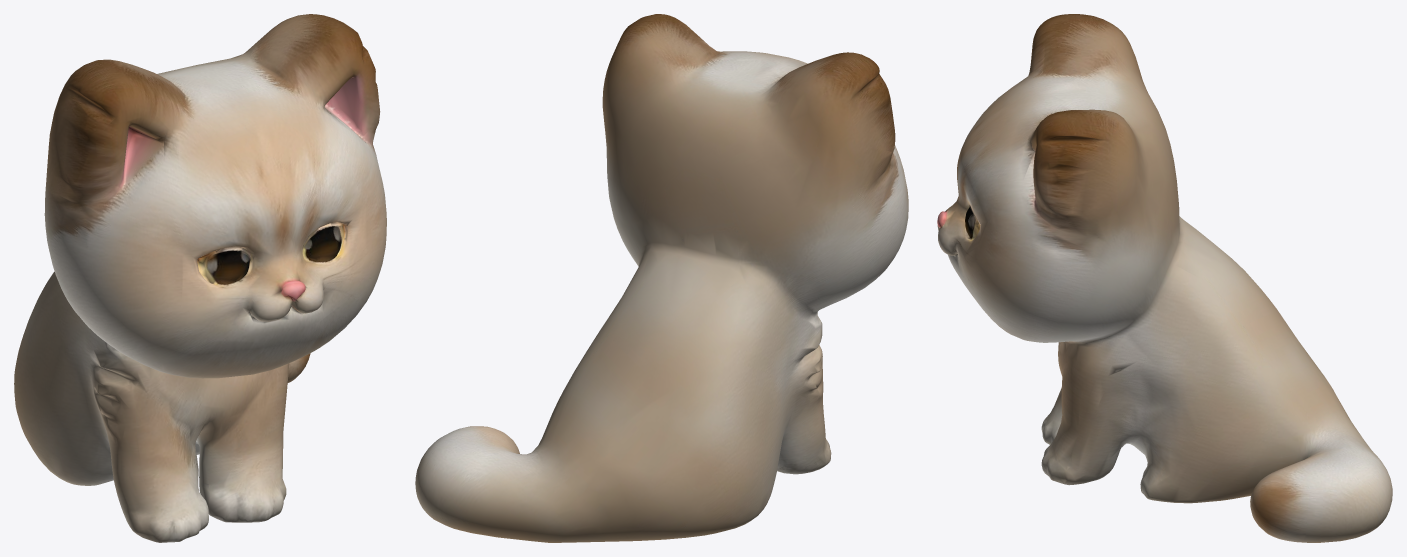
The picture shows the model from 3 angles, left to right: view 1: azimuth 30°, elevation 25°; view 2: azimuth 150°, elevation 25°; view 3: azimuth 270°, elevation 25°; orthographic projection. The views are drawn at different scales.
Parts seen in each view (by area): view 1: node_0; view 2: node_0; view 3: node_0.
Boxes of the visible parts, <box> form: node_0: <box>14,14,386,542</box>; node_0: <box>415,14,908,542</box>; node_0: <box>937,14,1392,542</box>.
Bounding box in the file's own units: 0.6645 × 0.8028 × 0.8218.
Materials: 1 (1 with a texture image).
